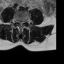CCS_stenosis: (20, 18, 22, 27)
LFS_stenosis: (23, 18, 26, 24)
LLS_normal: (22, 19, 23, 26)
RFS_normal: (16, 18, 18, 24)
RLS_stenosis: (18, 18, 20, 25)
